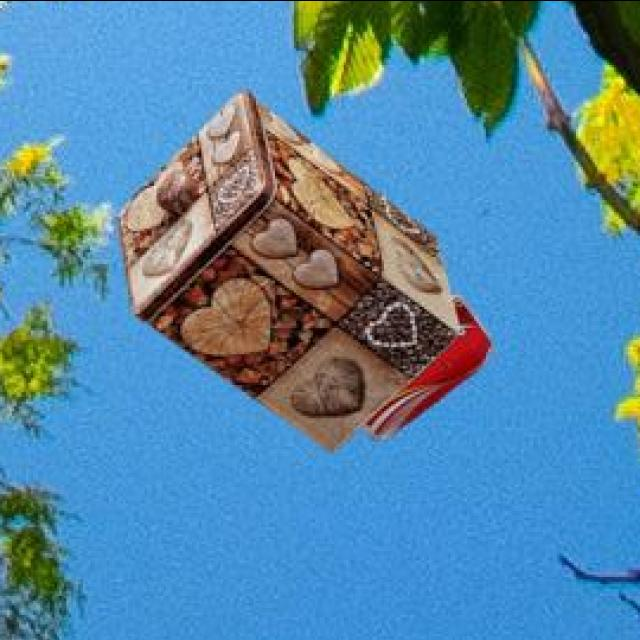logam: (115, 87, 454, 447), (359, 290, 489, 435)
